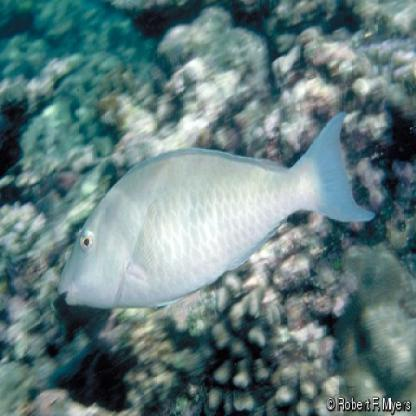parrot: (54, 97, 374, 320)
